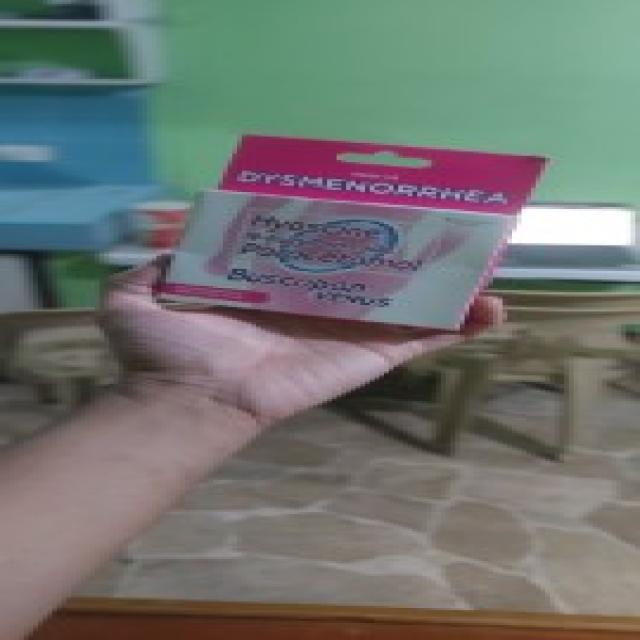Cacat: (156, 130, 554, 334)
